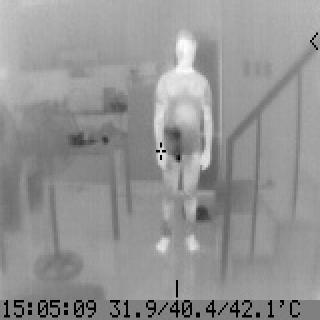Gun: (162, 123, 184, 165)
